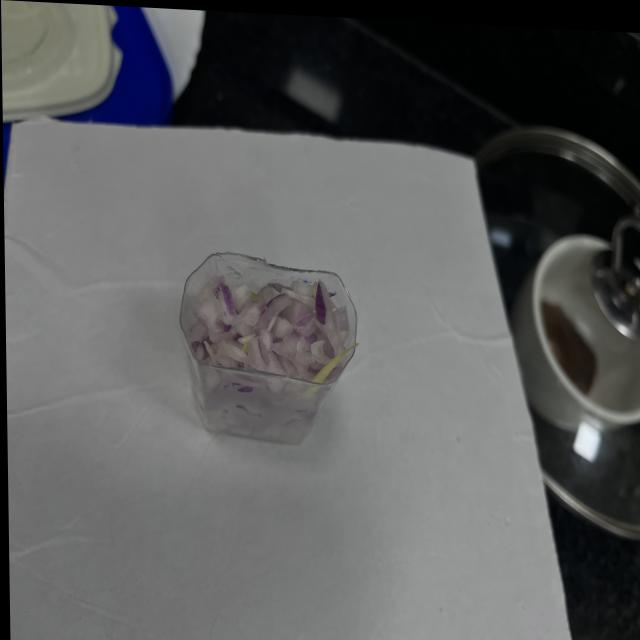sliced_onions: (179, 255, 352, 386)
